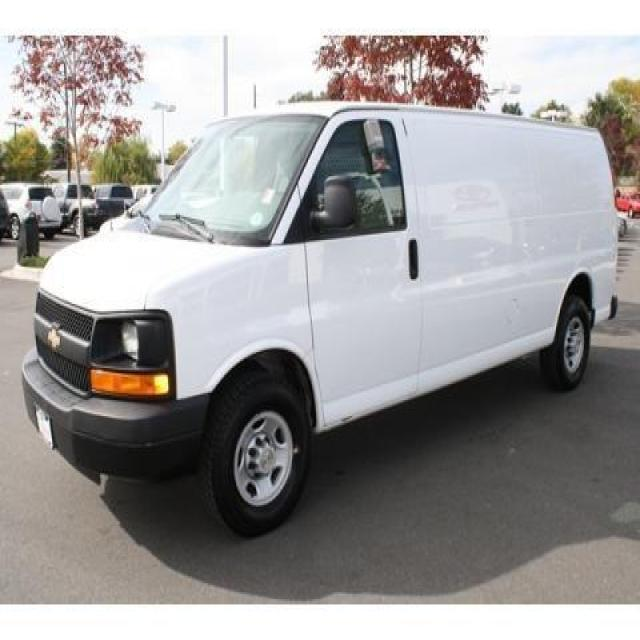Van: (12, 81, 640, 523)
